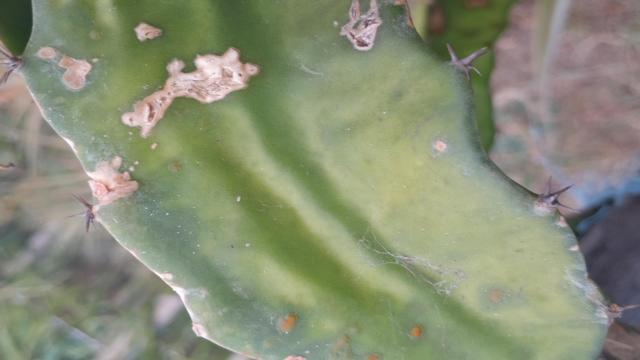stemcanker: (274, 313, 302, 338), (479, 287, 507, 309), (405, 321, 428, 344), (431, 137, 450, 157)
